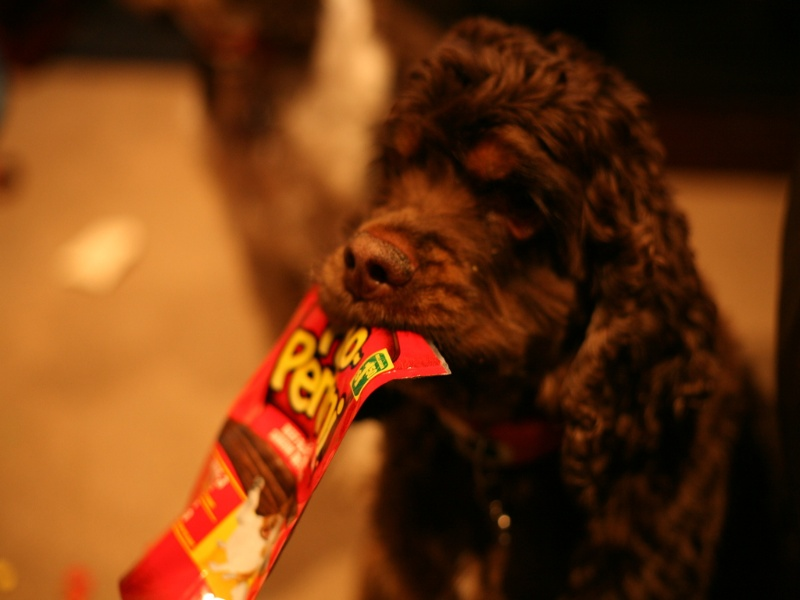dog: (317, 19, 760, 592)
